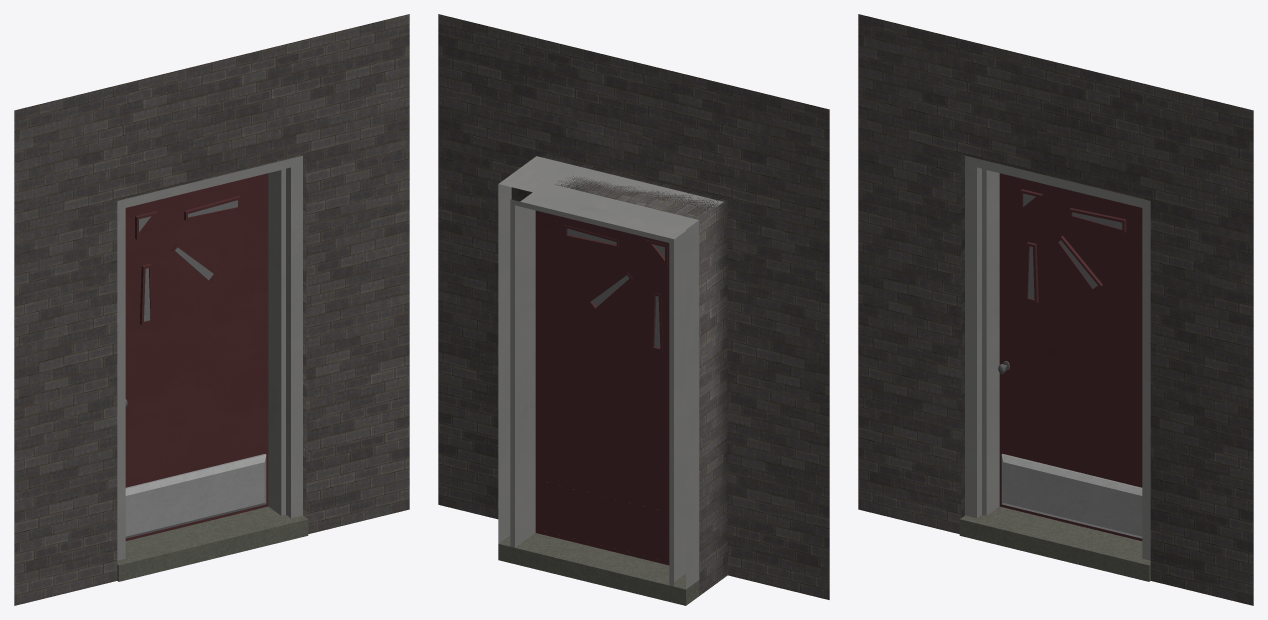
The model's file is Sm_Door03.fbx.
3 views of the same model, side by side, from view 1: azimuth 30°, elevation 25°; view 2: azimuth 150°, elevation 25°; view 3: azimuth 330°, elevation 25° (orthographic).
Visible parts, largest first — view 1: Sm_Door03; view 2: Sm_Door03; view 3: Sm_Door03.
Part boxes in pixels (bbox=[...]): Sm_Door03: bbox=[14, 14, 409, 605]; Sm_Door03: bbox=[438, 14, 829, 605]; Sm_Door03: bbox=[858, 14, 1253, 605].
Bounding box in the file's own units: 251 × 47.99 × 300.
Materials: 7 (7 with a texture image).
